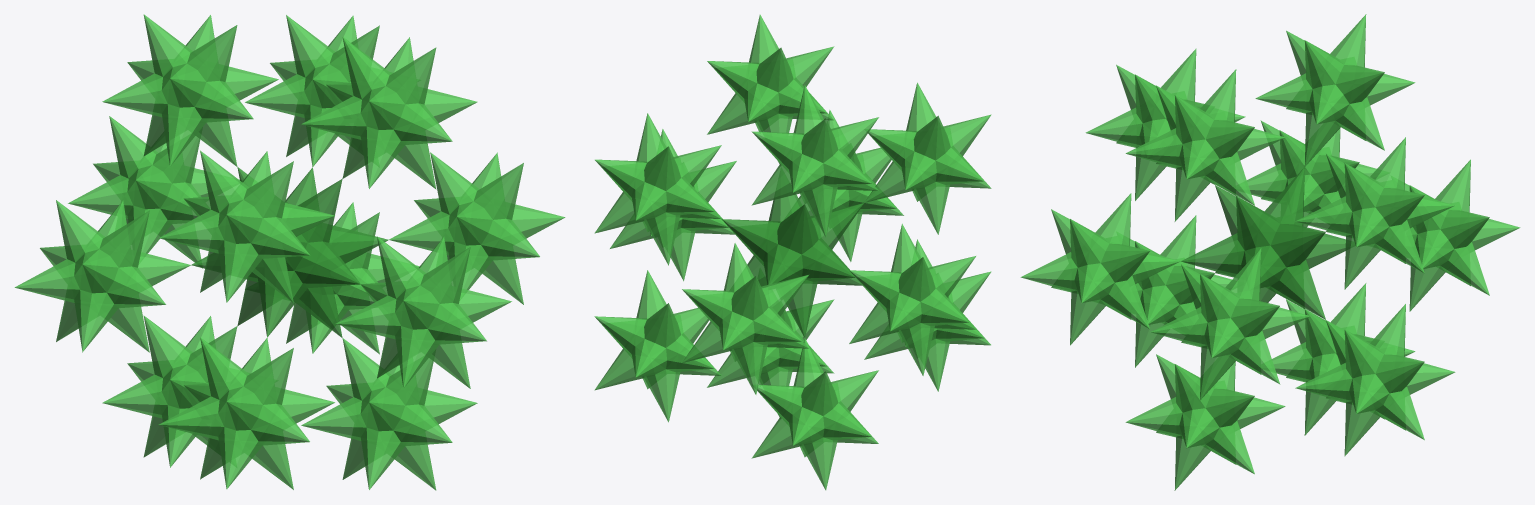
The model's file is fractalsmallditrigonaldodecacronichexecontahedron1.glb.
The picture shows the model from 3 angles, left to right: view 1: azimuth 30°, elevation 25°; view 2: azimuth 150°, elevation 25°; view 3: azimuth 270°, elevation 25°; orthographic projection. The views are drawn at different scales.
Size of the model in its own units: 11.67 by 10.19 by 11.67.
